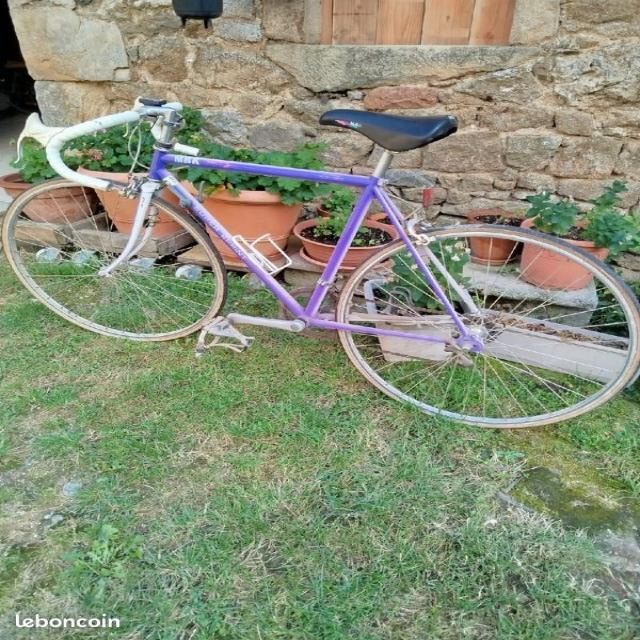Bike: (0, 97, 640, 428)
